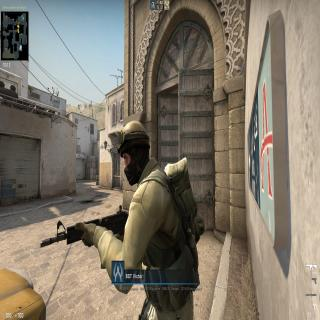CT-Head: (114, 119, 152, 188)
